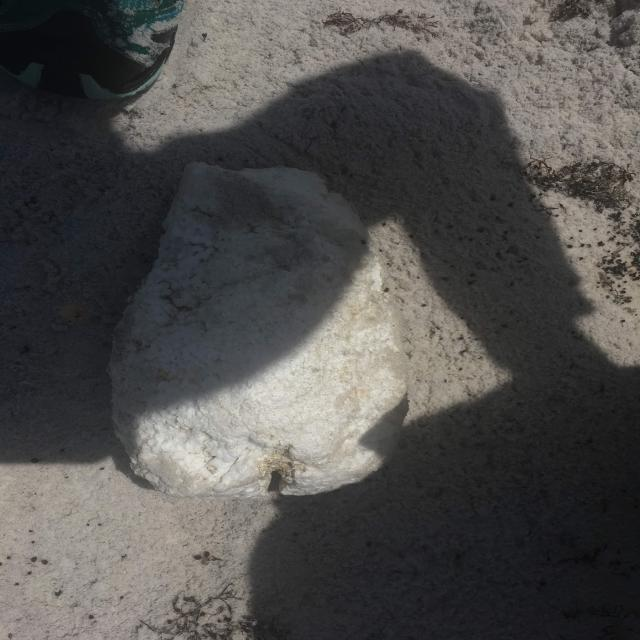litter: (188, 82, 635, 309)
